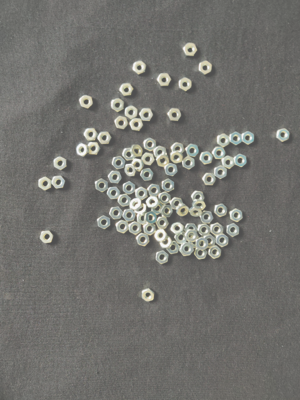nut: (276, 128, 291, 143), (183, 43, 198, 57), (111, 98, 125, 113), (139, 108, 154, 122), (214, 203, 228, 218), (208, 245, 222, 260), (199, 61, 213, 75), (133, 61, 147, 75), (120, 83, 134, 97), (80, 95, 94, 109), (130, 118, 144, 132), (115, 116, 129, 130), (52, 175, 66, 189), (186, 144, 200, 158), (234, 154, 248, 168), (170, 150, 184, 164), (131, 158, 145, 172), (140, 168, 154, 182), (95, 179, 109, 193), (154, 229, 168, 243), (171, 222, 185, 236), (216, 234, 230, 248), (157, 73, 172, 86), (76, 143, 89, 158), (54, 156, 67, 171), (108, 171, 123, 184), (200, 211, 215, 224), (227, 223, 240, 238), (156, 250, 169, 265), (179, 78, 192, 92), (168, 108, 182, 121), (98, 132, 112, 145), (84, 128, 98, 141), (39, 177, 52, 191), (40, 231, 54, 244), (242, 131, 255, 145), (212, 147, 226, 160), (200, 152, 214, 165), (222, 155, 235, 169), (215, 166, 228, 180), (203, 173, 217, 186), (182, 156, 195, 170), (144, 138, 157, 152), (156, 154, 170, 167), (164, 164, 178, 177), (142, 152, 155, 166), (122, 148, 136, 161), (112, 156, 126, 169), (162, 179, 175, 193), (147, 184, 161, 197), (123, 181, 136, 195), (107, 187, 121, 200), (159, 191, 172, 205), (230, 209, 243, 223), (110, 207, 124, 220), (116, 220, 129, 234), (137, 233, 150, 247), (160, 236, 174, 249), (210, 223, 224, 236), (167, 241, 180, 255), (196, 237, 209, 251), (181, 243, 195, 256), (142, 288, 155, 302), (153, 146, 168, 158), (192, 199, 207, 211), (125, 106, 138, 119), (88, 142, 101, 155), (230, 132, 243, 145), (217, 134, 230, 147), (131, 144, 144, 157), (125, 164, 138, 177), (118, 194, 131, 207), (130, 198, 143, 211), (160, 205, 173, 218), (98, 216, 111, 229), (123, 209, 136, 222), (129, 222, 142, 235), (203, 235, 216, 248), (171, 142, 185, 154), (136, 187, 148, 201), (146, 197, 160, 209), (156, 217, 170, 229), (185, 230, 199, 242), (191, 191, 206, 202), (171, 198, 184, 210), (177, 204, 189, 217), (135, 203, 148, 215), (145, 212, 157, 225), (137, 212, 149, 225), (143, 224, 156, 236), (185, 224, 198, 236), (198, 224, 211, 236), (175, 232, 188, 244), (189, 236, 202, 248), (195, 248, 208, 260), (151, 203, 163, 215), (189, 207, 203, 217)
